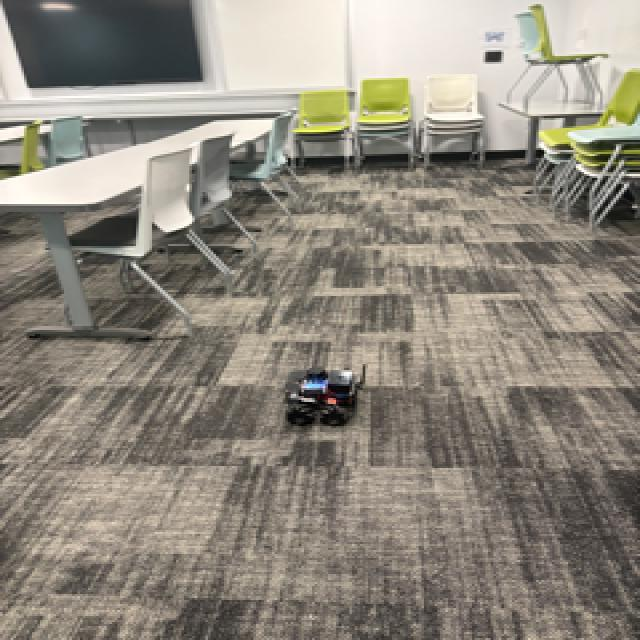ArduinoCar3: (282, 359, 366, 431)
